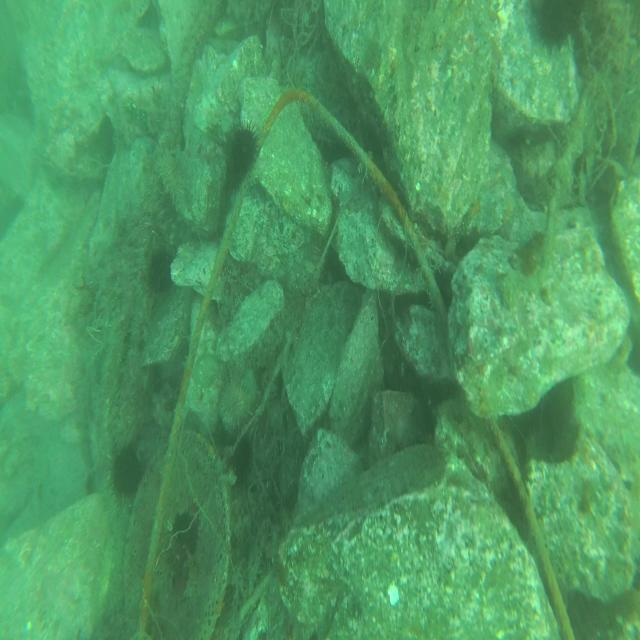echinus: (534, 0, 588, 54), (106, 448, 142, 500), (218, 376, 251, 428), (228, 121, 256, 173), (148, 249, 177, 291)
